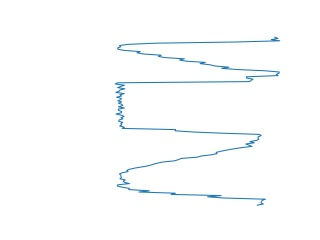distributaryChannelFill: (112, 71, 264, 142)
mouthBar: (116, 35, 285, 77)
underwaterDistributaryChannel: (113, 140, 267, 207)
